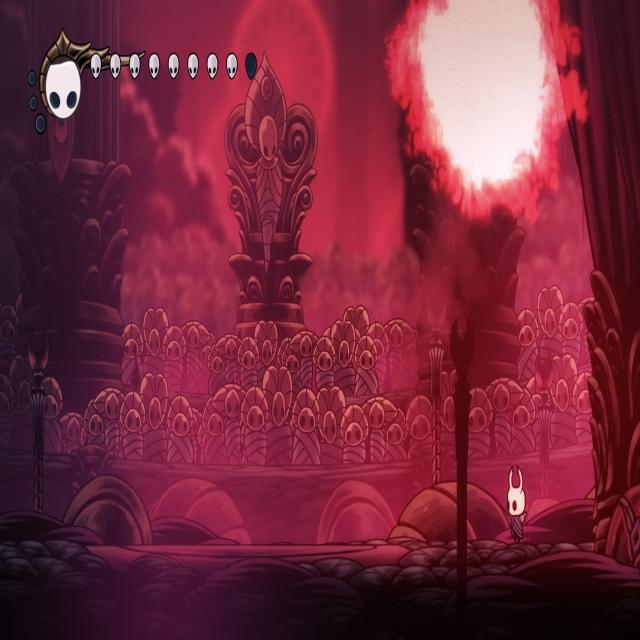Fireball: (392, 0, 588, 231)
Player: (503, 459, 529, 545)
